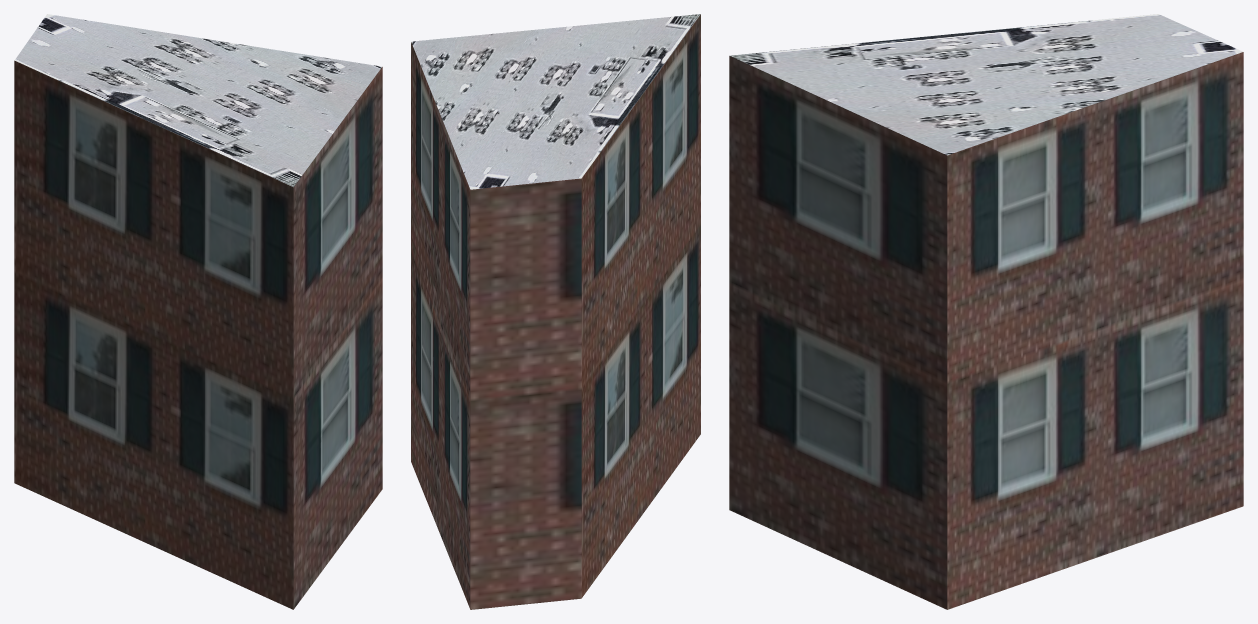
File: ResTex__3026.fbx
The picture shows the model from 3 angles, left to right: view 1: azimuth 30°, elevation 25°; view 2: azimuth 150°, elevation 25°; view 3: azimuth 270°, elevation 25°; orthographic projection. The views are drawn at different scales.
Visible parts, largest first — view 1: CityEngineMaterial_14_m, CityEngineMaterial_4_m; view 2: CityEngineMaterial_14_m, CityEngineMaterial_4_m; view 3: CityEngineMaterial_14_m, CityEngineMaterial_4_m.
Part boxes in pixels (x1=…): CityEngineMaterial_14_m: x1=14, y1=60, x2=382, y2=609; CityEngineMaterial_4_m: x1=14, y1=14, x2=381, y2=186; CityEngineMaterial_14_m: x1=411, y1=14, x2=700, y2=609; CityEngineMaterial_4_m: x1=411, y1=14, x2=700, y2=189; CityEngineMaterial_14_m: x1=729, y1=52, x2=1243, y2=609; CityEngineMaterial_4_m: x1=730, y1=14, x2=1242, y2=155.
Size of the model in its own units: 4.01 by 6 by 6.15.
Materials: 2 (2 with a texture image).
